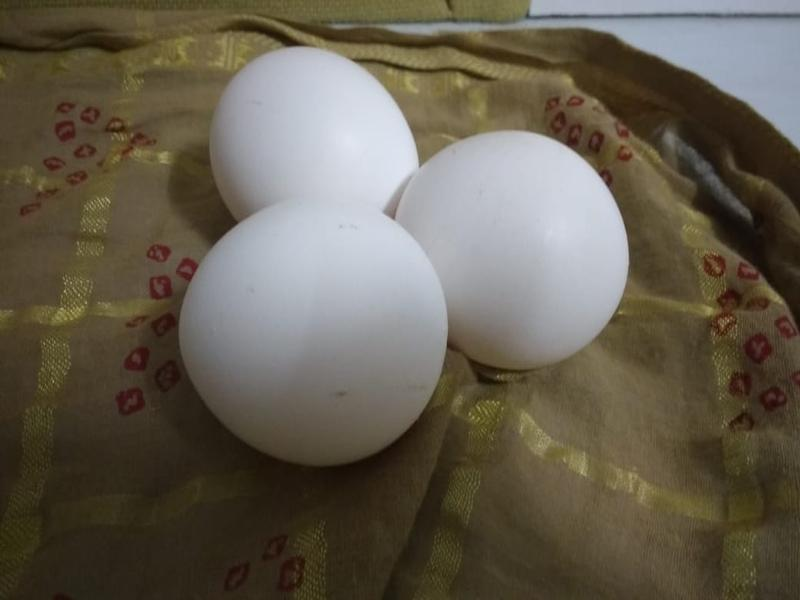egg: (179, 202, 444, 459)
